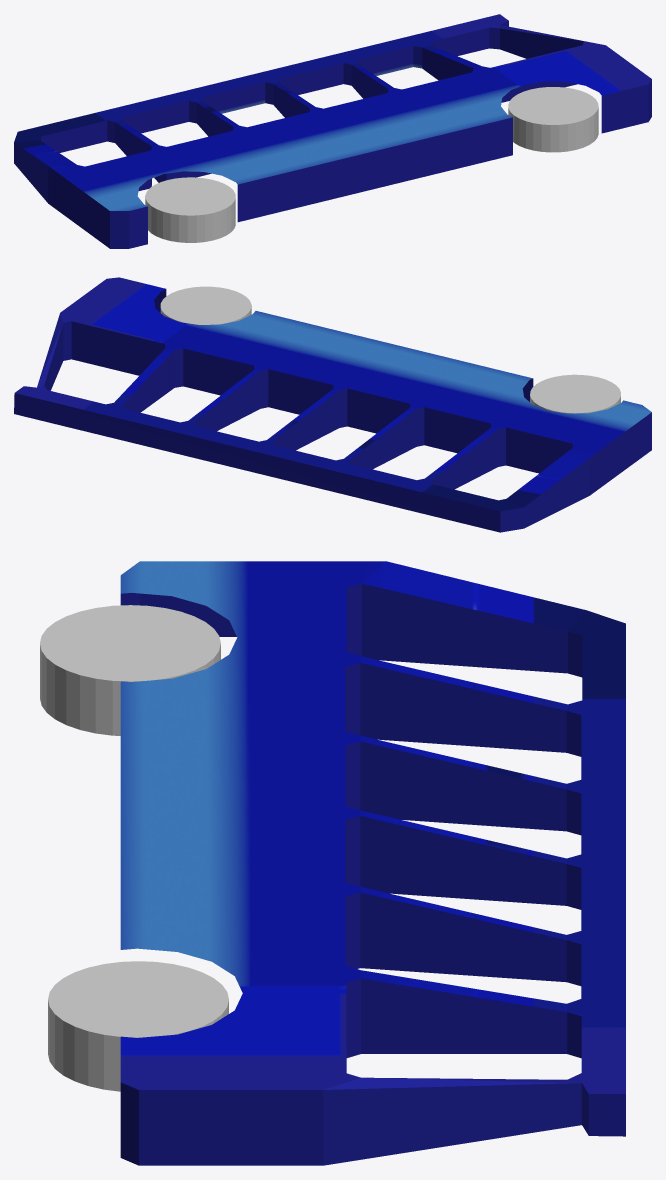
Rendered from model_public_transport.obj.
3 renders of one model, top to bottom at view 1: azimuth 30°, elevation 25°; view 2: azimuth 150°, elevation 25°; view 3: azimuth 270°, elevation 25°, orthographic. The views are drawn at different scales.
Visible parts, largest first — view 1: Circle, Cylinder.001_Cylinder, Cylinder; view 2: Circle, Cylinder.001_Cylinder, Cylinder; view 3: Circle, Cylinder.001_Cylinder, Cylinder.
Part boxes in pixels (box(x1,y1,x2,y2)): Circle: box(14, 14, 651, 248); Cylinder.001_Cylinder: box(145, 177, 235, 242); Cylinder: box(508, 87, 598, 152); Circle: box(14, 277, 651, 532); Cylinder.001_Cylinder: box(530, 374, 620, 413); Cylinder: box(160, 286, 251, 324); Circle: box(120, 561, 625, 1165); Cylinder.001_Cylinder: box(40, 605, 220, 735); Cylinder: box(48, 961, 228, 1091).
Size of the model in its own units: 2.07 by 0.1383 by 0.9711.
2 materials, 1 textured.
